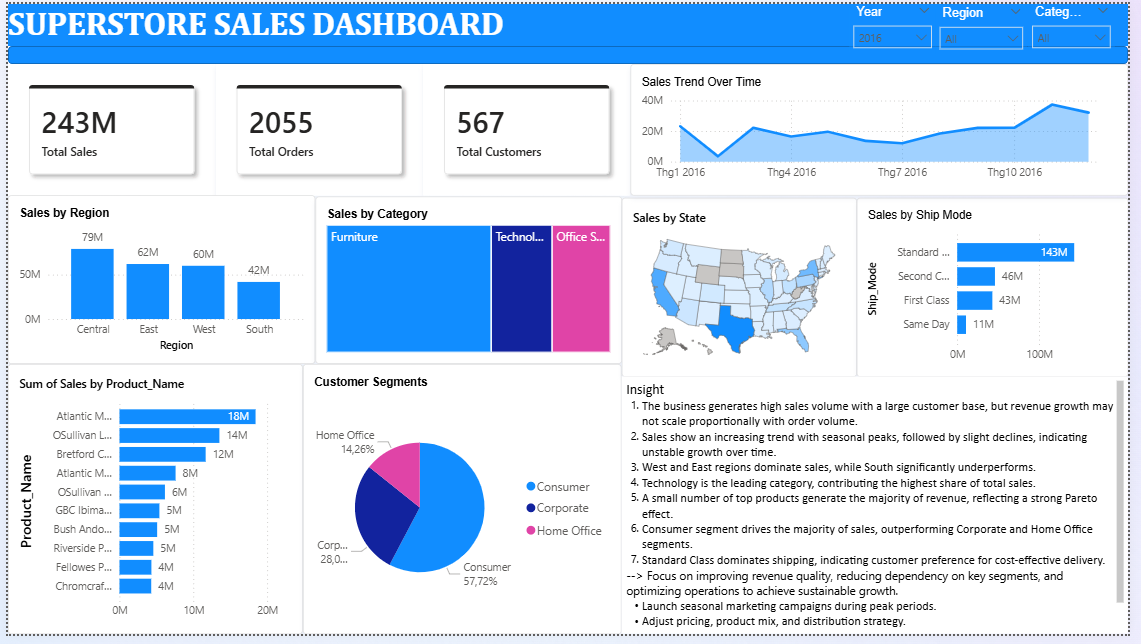

The page's visual inventory and layout, read from the dashboard file:
{"tool":"powerbi","page":{"name":"Page 1","canvas":[1280,720],"ordinal":0},"visuals":[{"type":"shape","title":"SUPERSTORE SALES DASHBOARD","box":[0,0,1280,68.8],"z":0},{"type":"cardVisual","fields":{"Data":["Sum(superstore_final_dataset (2).Sales)"]},"box":[0,69.1,237.1,150],"z":1000},{"type":"cardVisual","fields":{"Data":["CountNonNull(superstore_final_dataset (2).Order_ID)"]},"box":[237.1,69.1,237.1,150],"z":2000},{"type":"cardVisual","fields":{"Data":["Count(superstore_final_dataset (2).Customer_ID)"]},"box":[474.3,69.1,237.1,150],"z":3000},{"type":"clusteredColumnChart","title":"Sales by Region","fields":{"Category":["superstore_final_dataset (2).Region"],"Y":["Sum(superstore_final_dataset (2).Sales)"]},"box":[0,218.6,351.4,192.9],"z":4000},{"type":"treemap","title":"Sales by Category","fields":{"Group":["superstore_final_dataset (2).Category"],"Values":["Sum(superstore_final_dataset (2).Sales)"]},"box":[351.4,220,350,191.4],"z":5000},{"type":"clusteredBarChart","fields":{"Category":["superstore_final_dataset (2).Product_Name"],"Y":["Sum(superstore_final_dataset (2).Sales)"]},"box":[0,411.4,337.1,308.6],"z":6000},{"type":"pieChart","title":"Customer Segments","fields":{"Category":["superstore_final_dataset (2).Segment"],"Y":["Sum(superstore_final_dataset (2).Sales)"]},"box":[337.1,411.4,364.3,308.6],"z":7000},{"type":"shapeMap","title":"Sales by State","fields":{"Category":["superstore_final_dataset (2).State"],"Value":["Sum(superstore_final_dataset (2).Sales)"]},"box":[701,221,269,205],"z":8000},{"type":"clusteredBarChart","title":"Sales by Ship Mode","fields":{"Category":["superstore_final_dataset (2).Ship_Mode"],"Y":["Sum(superstore_final_dataset (2).Sales)"]},"box":[970,221.2,310,205],"z":9000},{"type":"areaChart","title":"Sales Trend Over Time","fields":{"Category":["superstore.Order_Date.Variation.Date Hierarchy.Year","superstore.Order_Date.Variation.Date Hierarchy.Month"],"Y":["Sum(superstore.Sales)"]},"box":[711.2,68.8,568.8,150],"z":10000},{"type":"slicer","fields":{"Values":["superstore.Order_Date.Variation.Date Hierarchy.Year"]},"box":[961,0,99,55],"z":11000},{"type":"slicer","fields":{"Values":["superstore.Region"]},"box":[1060,1,105,55],"z":12000},{"type":"slicer","fields":{"Values":["superstore.Category"]},"box":[1165,0,99,55],"z":13000},{"type":"textbox","box":[701.2,426.2,578.8,293.8],"z":14000}]}

Visuals, with their boxes in screenshot pixels (x1, y1, x2, y2), scaled from the page's 1280x720 canvas onto the 1141x644 screenshot:
"SUPERSTORE SALES DASHBOARD" shape: bbox(0, 0, 1140, 62)
cardVisual - Sum(superstore_final_dataset (2).Sales): bbox(0, 62, 211, 196)
cardVisual - CountNonNull(superstore_final_dataset (2).Order_ID): bbox(211, 62, 423, 196)
cardVisual - Count(superstore_final_dataset (2).Customer_ID): bbox(423, 62, 634, 196)
"Sales by Region" clusteredColumnChart: bbox(0, 196, 313, 368)
"Sales by Category" treemap: bbox(313, 197, 625, 368)
clusteredBarChart - superstore_final_dataset (2).Product_Name x Sum(superstore_final_dataset (2).Sales): bbox(0, 368, 300, 643)
"Customer Segments" pieChart: bbox(300, 368, 625, 643)
"Sales by State" shapeMap: bbox(625, 198, 865, 381)
"Sales by Ship Mode" clusteredBarChart: bbox(865, 198, 1140, 381)
"Sales Trend Over Time" areaChart: bbox(634, 62, 1140, 196)
slicer - superstore.Order_Date.Variation.Date Hierarchy.Year: bbox(857, 0, 945, 49)
slicer - superstore.Region: bbox(945, 1, 1038, 50)
slicer - superstore.Category: bbox(1038, 0, 1127, 49)
textbox: bbox(625, 381, 1140, 643)
